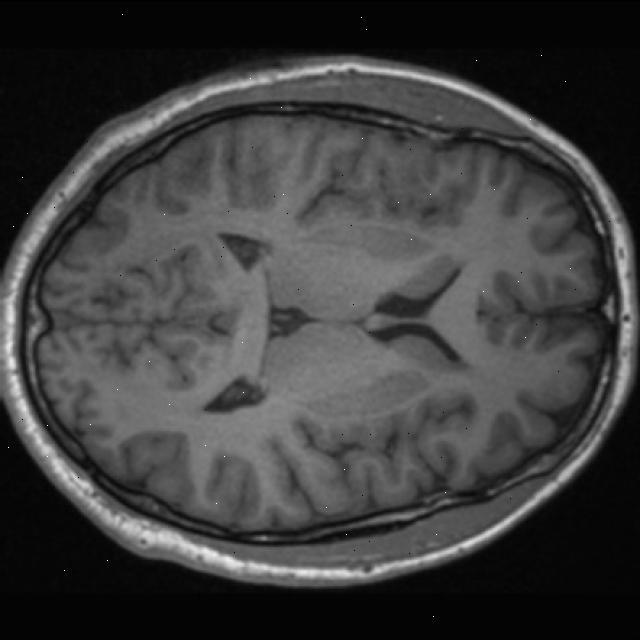No_Tumor: (0, 58, 638, 585)
